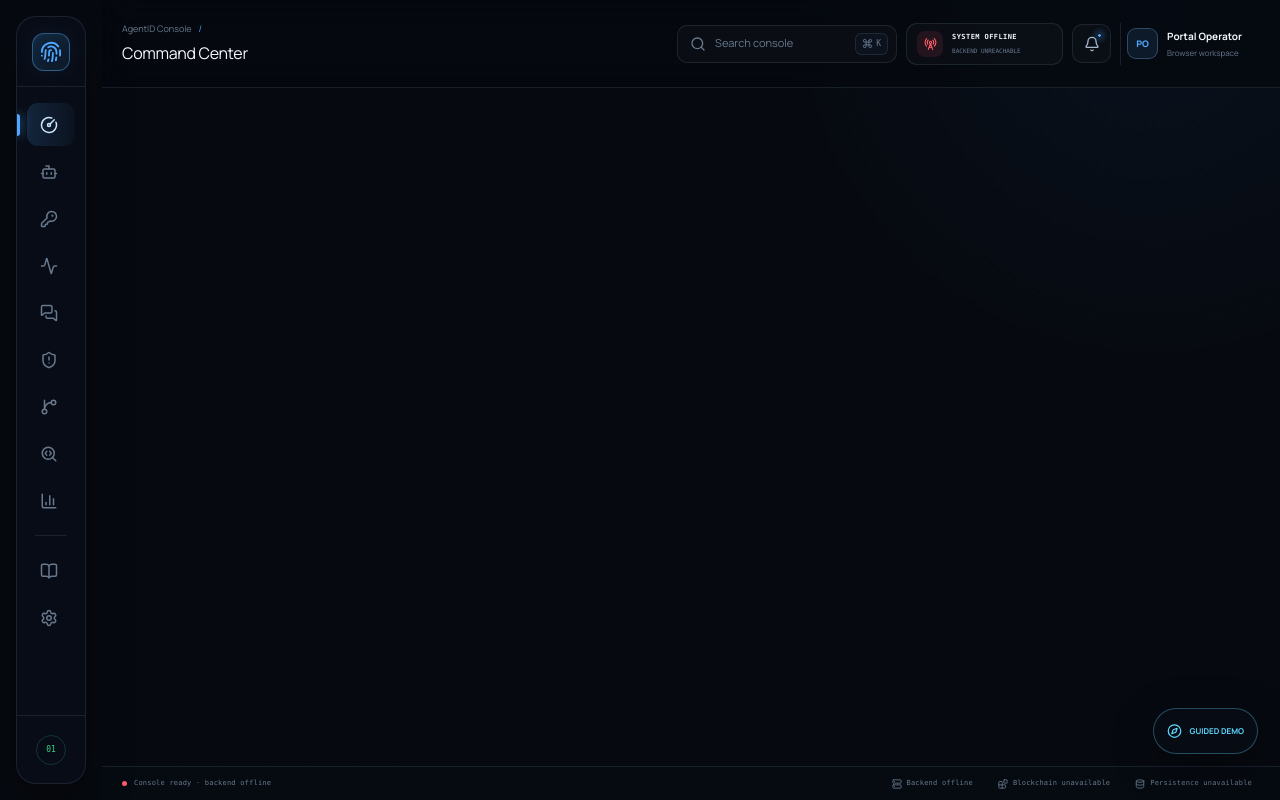
console navigation › filters commands and navigates on Enter
The width and height of the screenshot is (1280, 800).
Type keys "{Control>}k{/Control}"
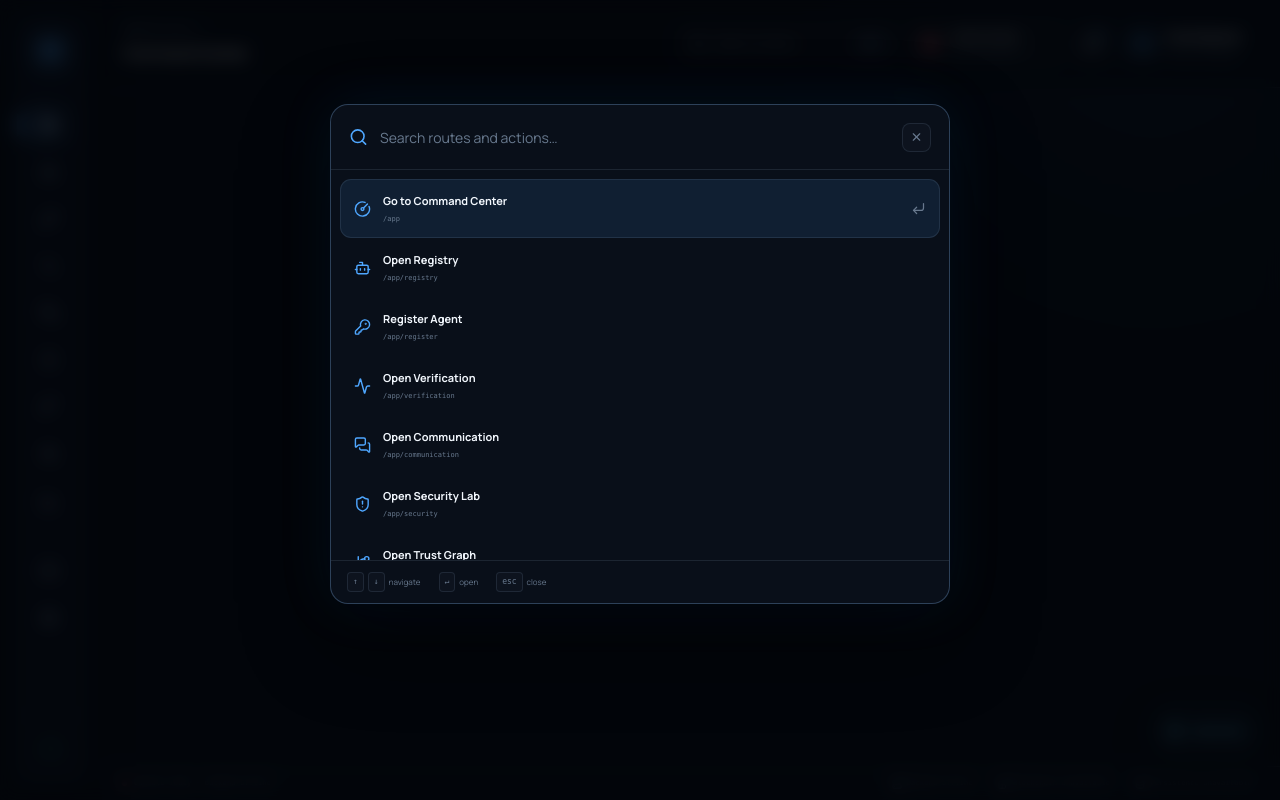
Type "registry" into the field named "Search commands".
click(635, 137); type("registry")  # box [380,126,890,148]
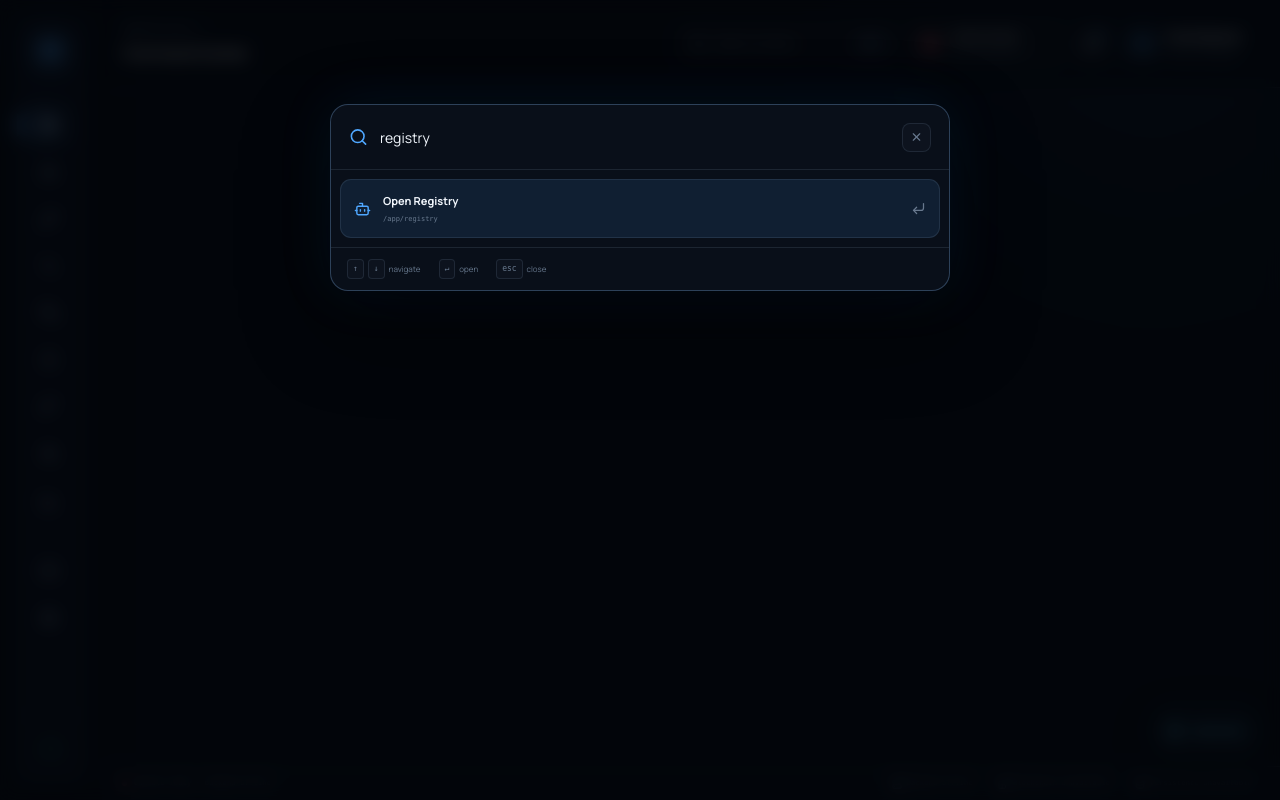
Press Enter
(page scrolled)
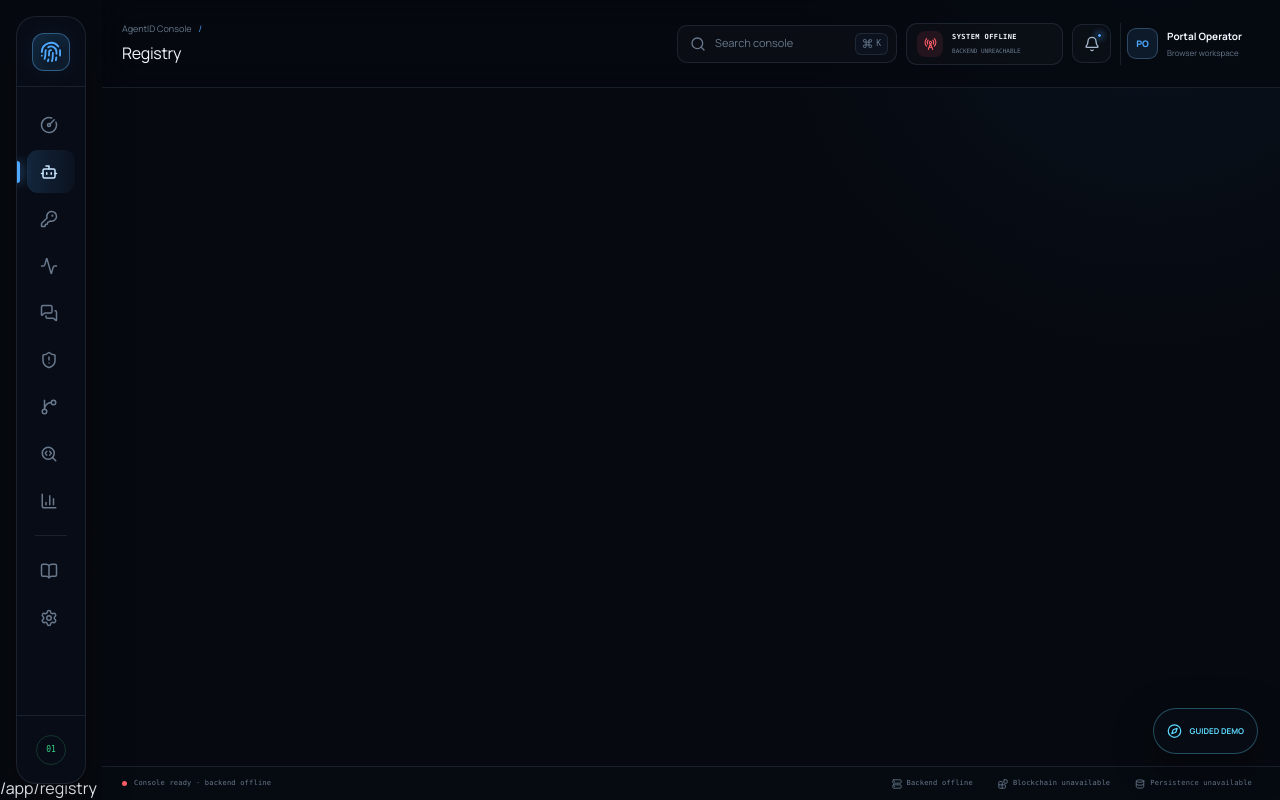
Result: the text with test id "location" reads "/app/registry" at [0,777,97,799]
